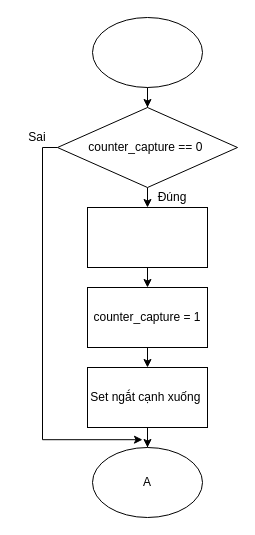
Some shapes in this 255 by 535 pixel diagram are drawn without their labels. The centre of each missing label's shape, as x and y in pixels:
Begin distance (): the point at 147,52
Đọc giá trị thời gian đã capture ( IC1): the point at 147,237
